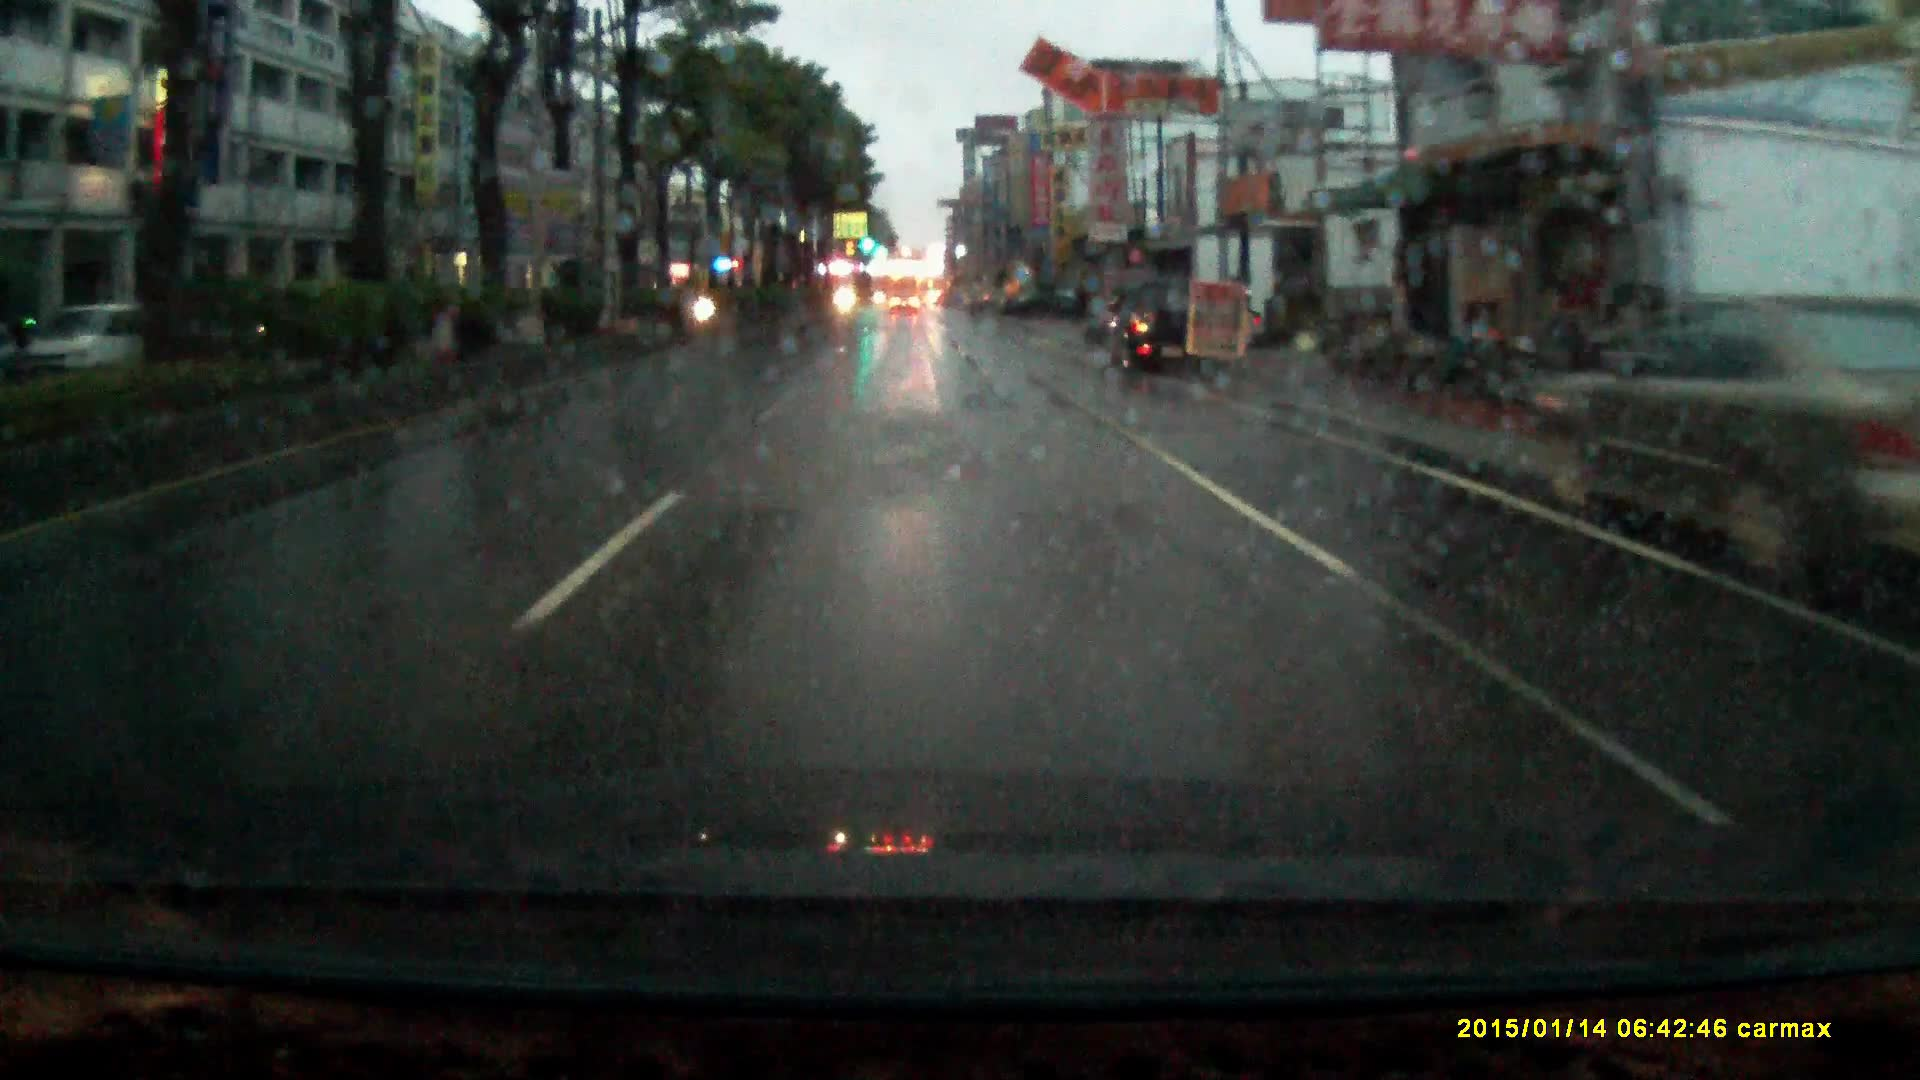vehicle: (1538, 314, 1920, 564), (1084, 284, 1220, 384), (891, 295, 919, 319)
